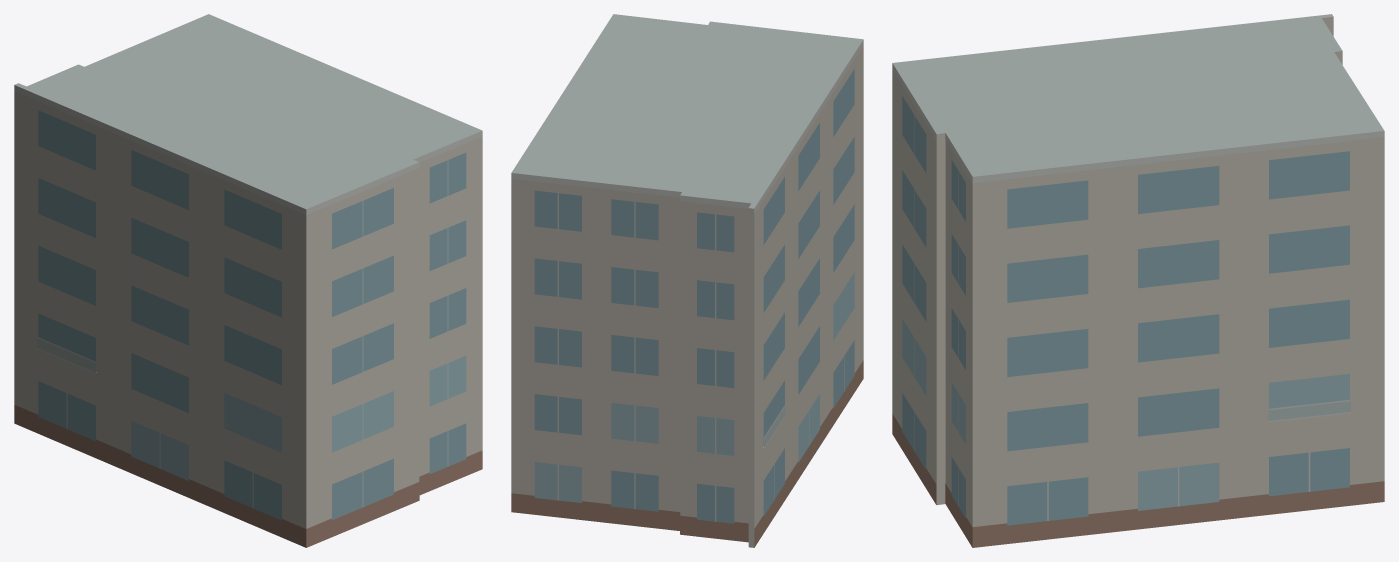
The model's file is survey-upis-32902247.glb.
3 renders of one model, left to right at view 1: azimuth 30°, elevation 25°; view 2: azimuth 150°, elevation 25°; view 3: azimuth 270°, elevation 25°, orthographic. The views are drawn at different scales.
Parts seen in each view (by area): view 1: survey-upis-32902247.tmp; view 2: survey-upis-32902247.tmp; view 3: survey-upis-32902247.tmp.
Part boxes in pixels (<box>): survey-upis-32902247.tmp: <box>14,14,482,547</box>; survey-upis-32902247.tmp: <box>511,14,863,547</box>; survey-upis-32902247.tmp: <box>892,14,1384,547</box>.
Size of the model in its own units: 13.38 by 14.2 by 17.08.
